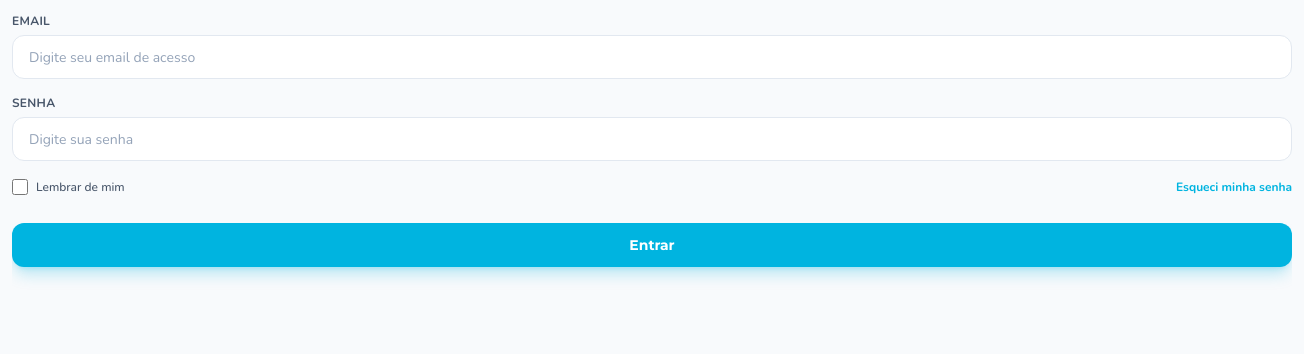
Test: LoginForm › erro INVALID_CREDENTIALS exibe mensagem correta
This screenshot has width=1304, height=354.
Type "teste@vans.com" into the field labelled "Email". click: (652, 57)
box: x1=12 y1=35 x2=1292 y2=79
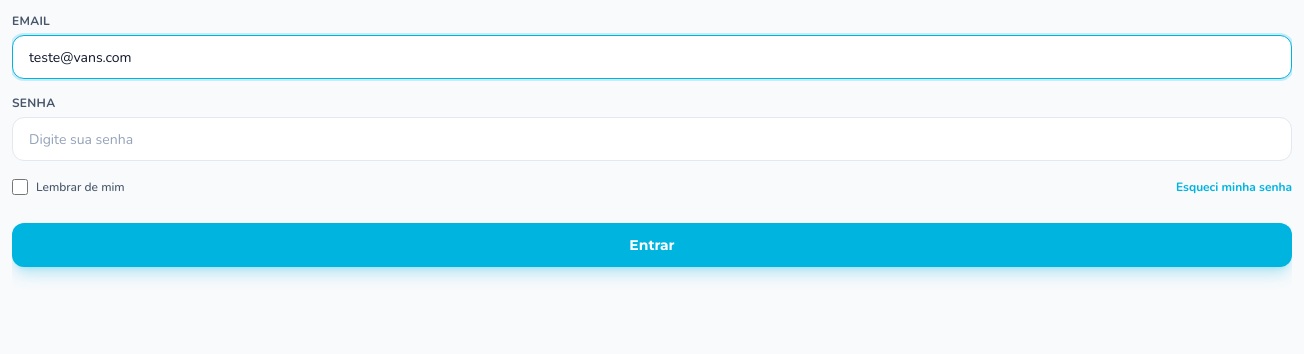
Type "senhaerrada" into the password field labelled "Senha". click: (652, 139)
box: x1=12 y1=117 x2=1292 y2=161
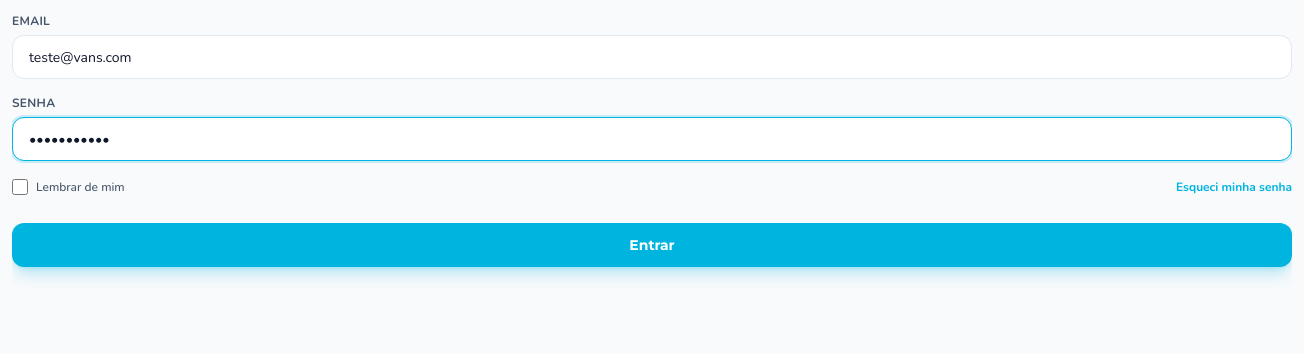
Click the button "Entrar". click: (652, 245)
box: x1=12 y1=223 x2=1292 y2=267
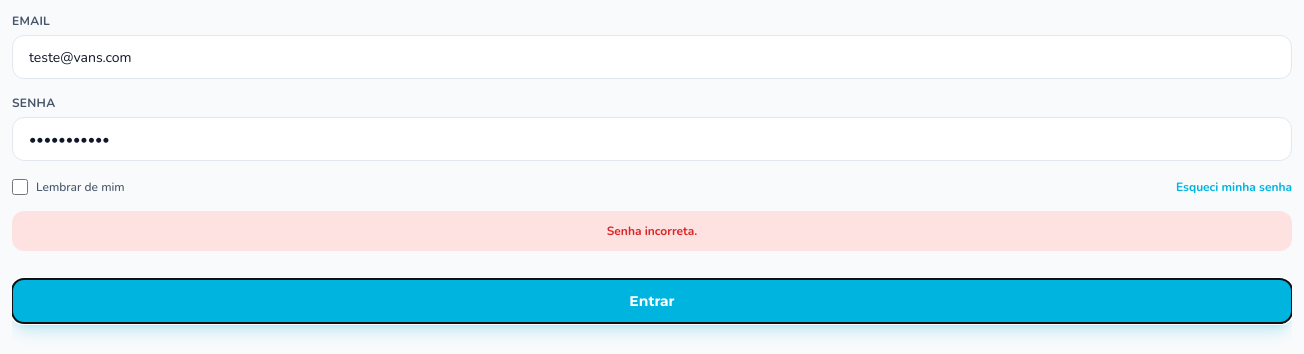
Expected: the text "Senha incorreta." is shown, x1=12 y1=211 x2=1292 y2=251
